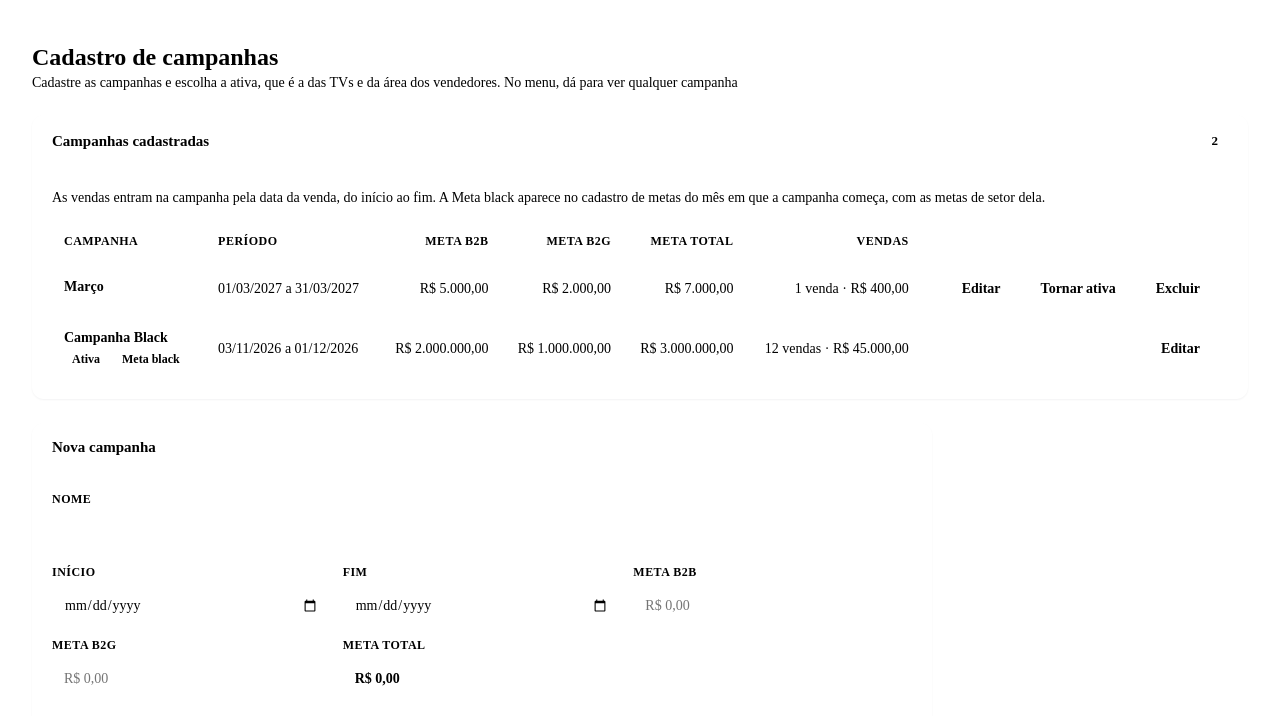
Test: CampaignsPage › a ativa não pode ser desmarcada na edição
This screenshot has width=1280, height=716.
Click the button with aria-label "Editar Campanha Black".
click(1181, 349)  # box [1145,329,1216,369]
(page scrolled)
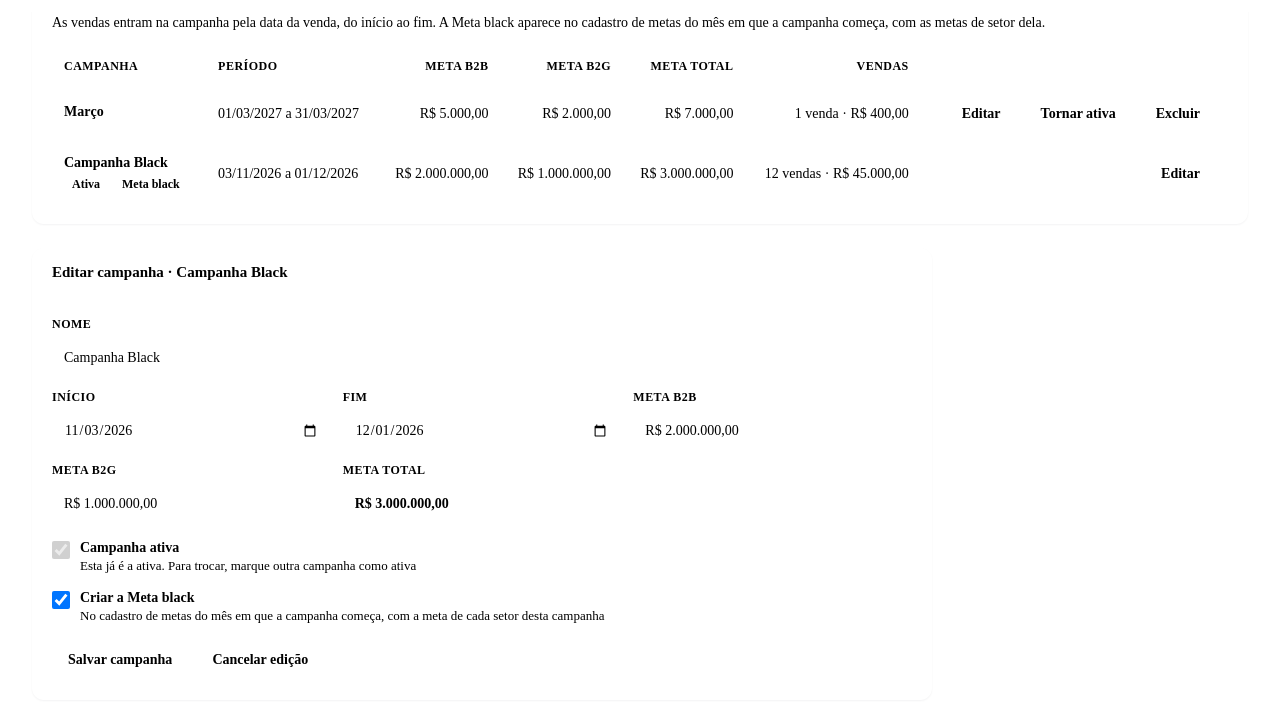
Expected: the checkbox labelled "Campanha ativa" is checked, [52,541,70,559]
Expected: the checkbox labelled "Campanha ativa" is disabled, [52,541,70,559]
